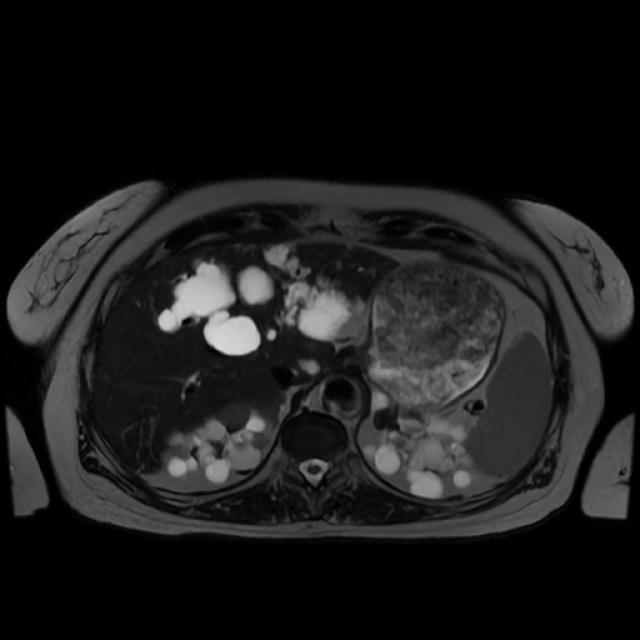sag: (162, 402, 272, 486)
sol: (363, 388, 473, 500)
